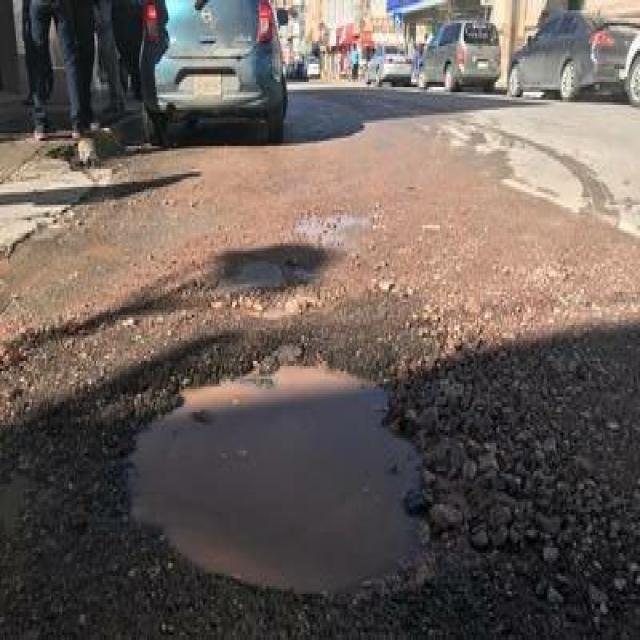pothole: (85, 327, 484, 640), (104, 210, 355, 297)
